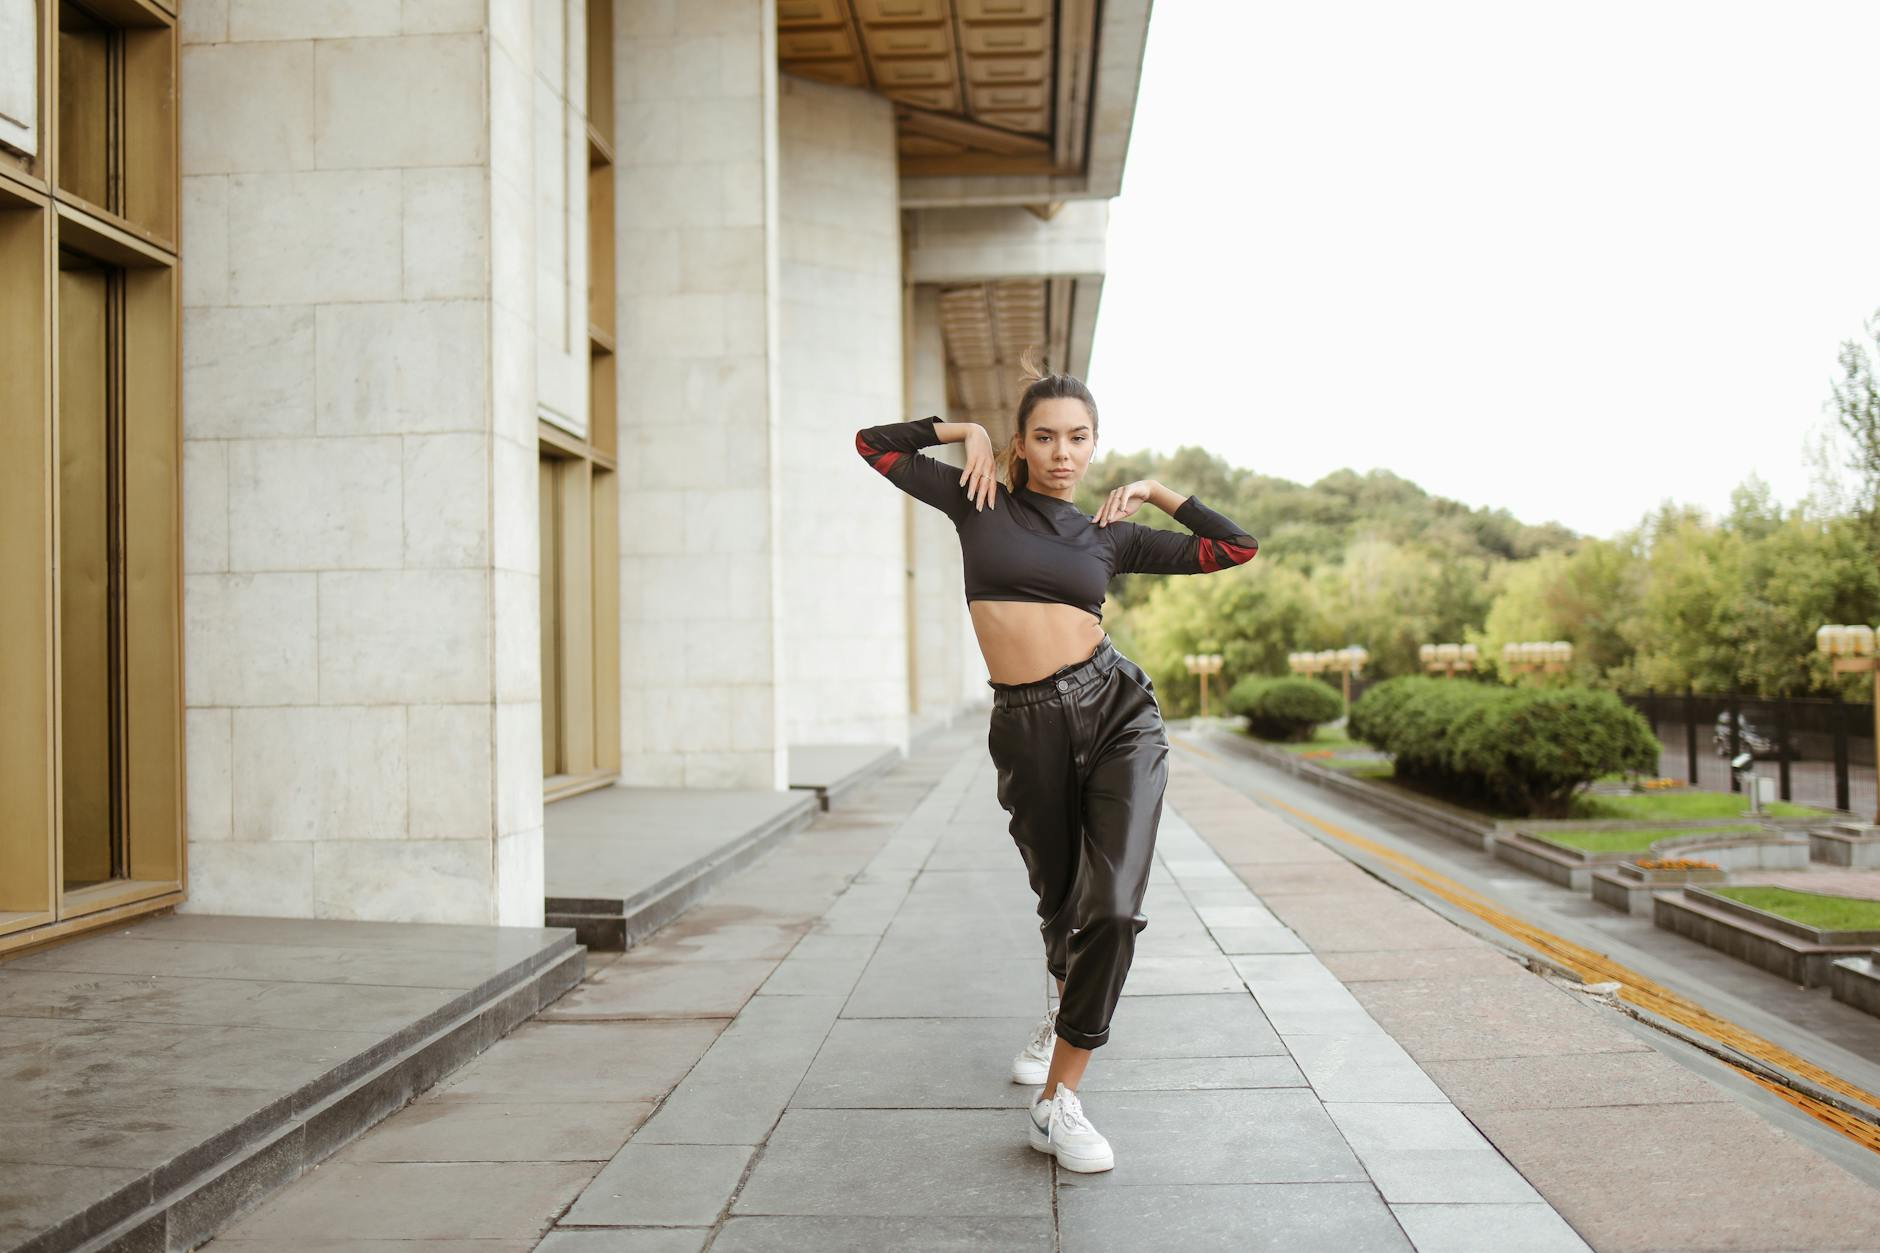crop_top: (934, 473, 1138, 614)
